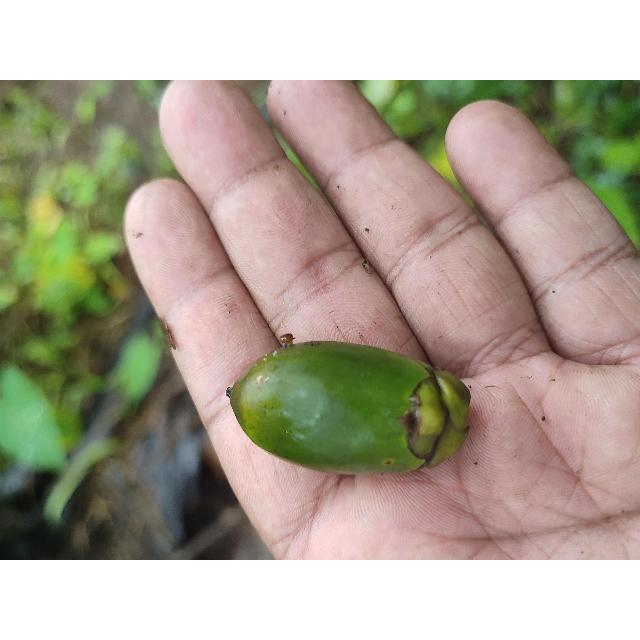good: (225, 341, 473, 477)
